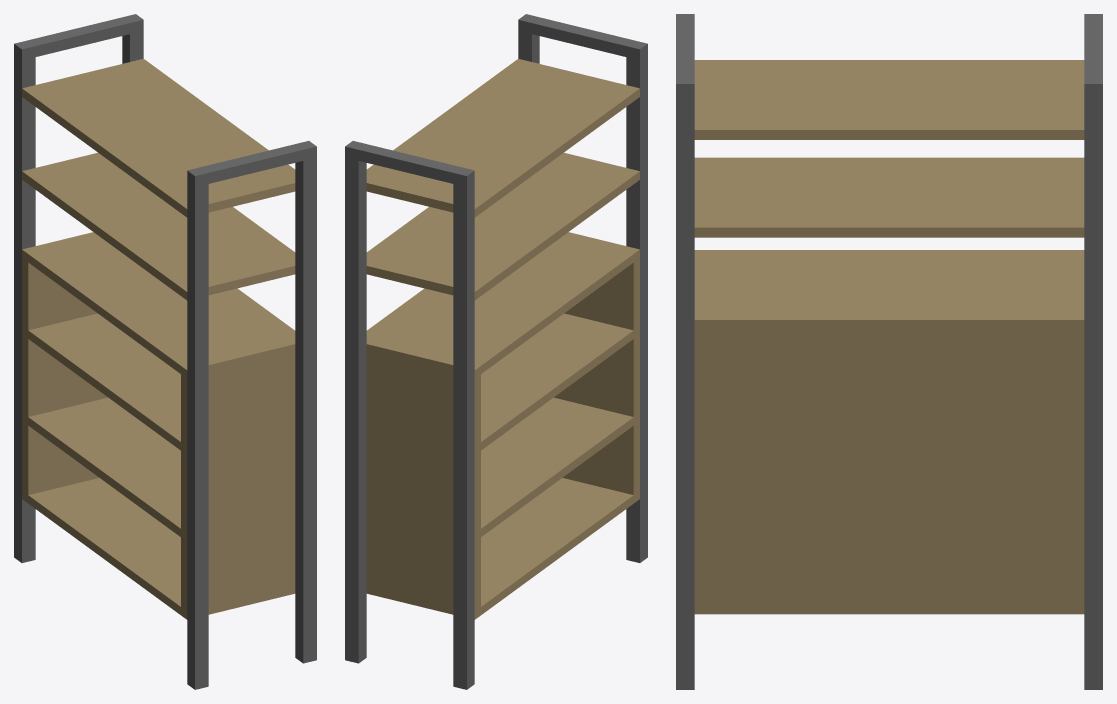
Rendered from Shelf1.fbx.
The picture shows the model from 3 angles, left to right: view 1: azimuth 30°, elevation 25°; view 2: azimuth 150°, elevation 25°; view 3: azimuth 270°, elevation 25°; orthographic projection. The views are drawn at different scales.
Parts seen in each view (by area): view 1: Cube.001; view 2: Cube.001; view 3: Cube.001.
Part boxes in pixels (box(x1,y1,x2,y2)): Cube.001: box(14, 14, 316, 689); Cube.001: box(345, 14, 647, 689); Cube.001: box(676, 14, 1102, 689).
Bounding box in the file's own units: 44.69 × 180 × 115.
